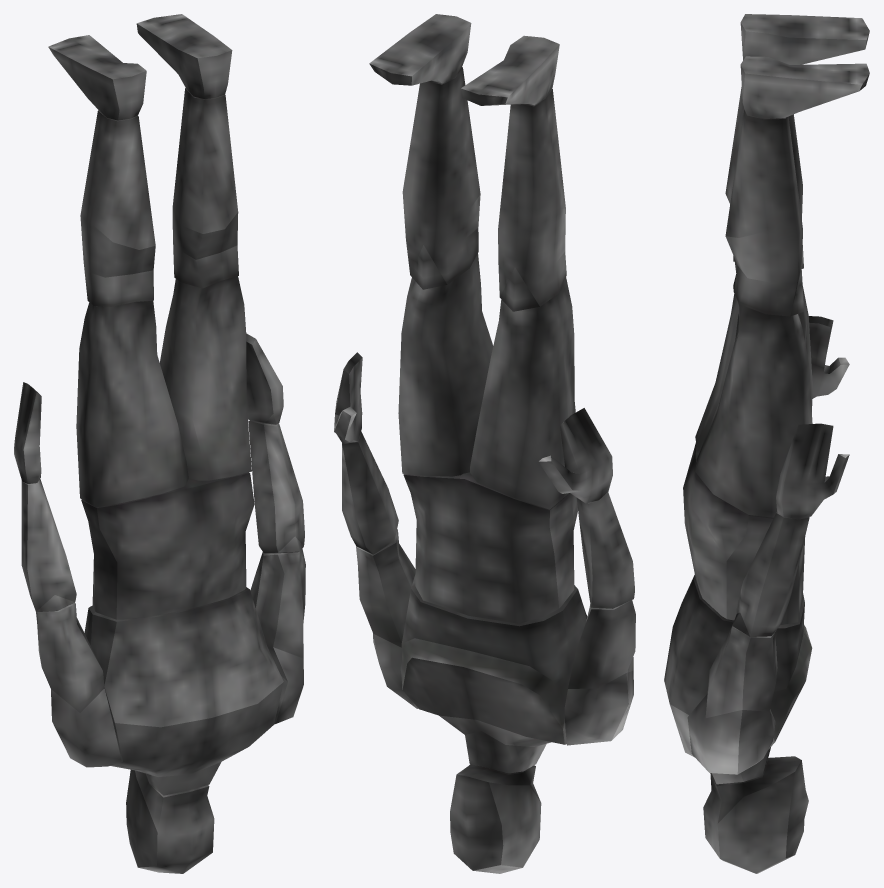
Rendered from cerberus.obj.
The picture shows the model from 3 angles, left to right: view 1: azimuth 30°, elevation 25°; view 2: azimuth 150°, elevation 25°; view 3: azimuth 270°, elevation 25°; orthographic projection. The views are drawn at different scales.
Visible parts, largest first — view 1: Cerberus_0; view 2: Cerberus_0; view 3: Cerberus_0.
Part boxes in pixels (x1,y1,x2,y2): Cerberus_0: (14,14,305,873); Cerberus_0: (334,14,635,873); Cerberus_0: (664,14,869,873).
Bounding box in the file's own units: 0.3454 × 0.97 × 0.2189.
Materials: 1 (1 with a texture image).
